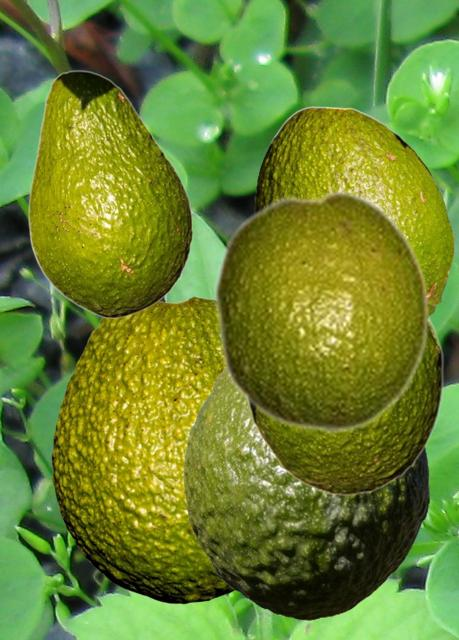avocado: (183, 368, 428, 619), (51, 294, 233, 603), (212, 188, 430, 434), (254, 106, 453, 317), (28, 70, 192, 317), (244, 316, 443, 495)
